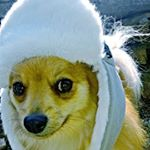puppy: (6, 55, 94, 148)
